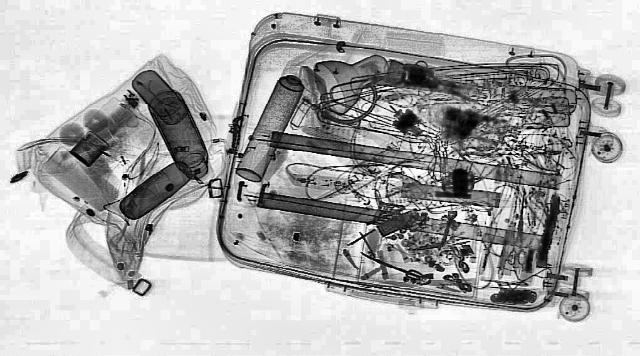Scissors: (353, 250, 427, 282)
